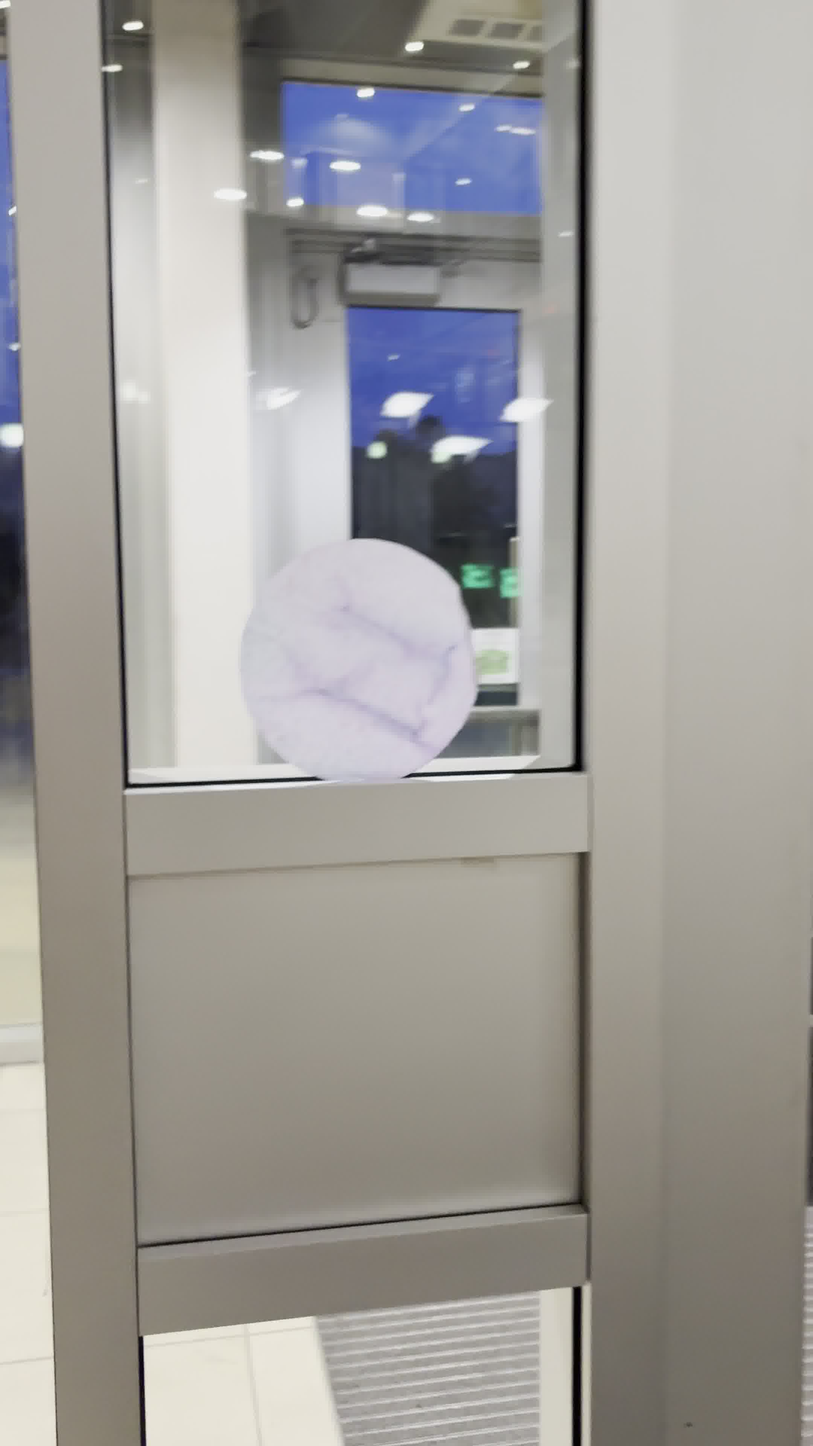Target: (240, 539, 476, 780)
